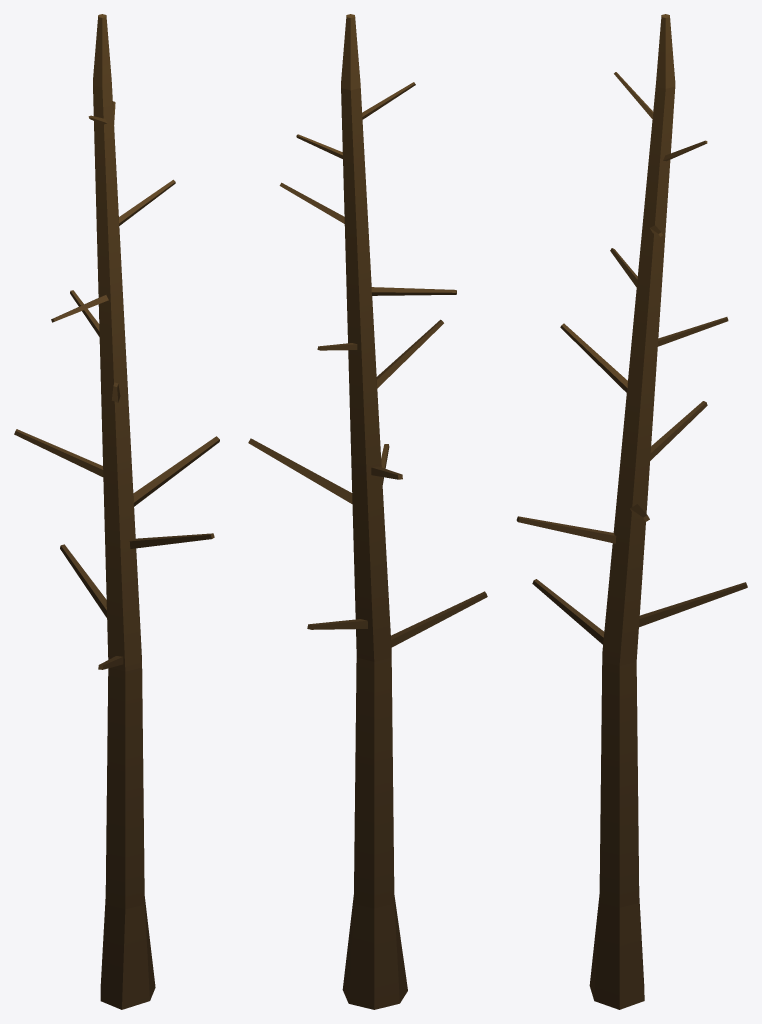
File: Tree_04.fbx
3 views of the same model, side by side, from view 1: azimuth 30°, elevation 25°; view 2: azimuth 150°, elevation 25°; view 3: azimuth 270°, elevation 25° (orthographic). The views are drawn at different scales.
Parts seen in each view (by area): view 1: Tree_04; view 2: Tree_04; view 3: Tree_04.
Part boxes in pixels (x1,y1,x2,y2): Tree_04: [14, 14, 219, 1009]; Tree_04: [248, 14, 487, 1009]; Tree_04: [516, 14, 747, 1009].
Size of the model in its own units: 1.21 by 6.06 by 1.3.
